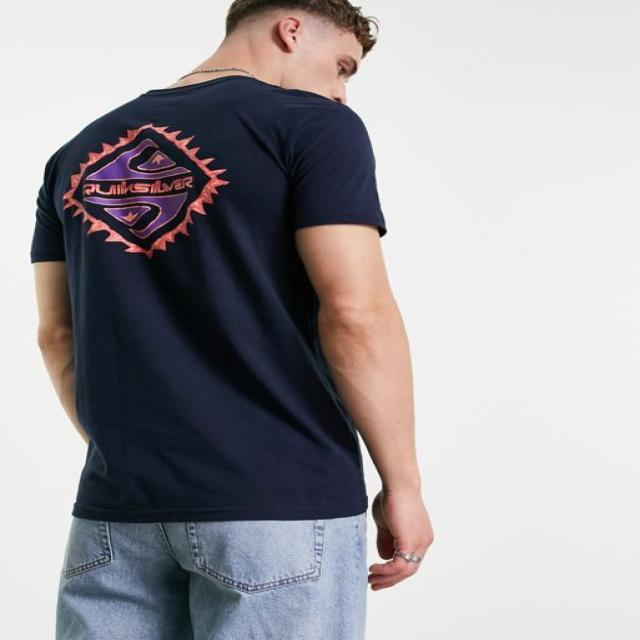tshirt: (30, 74, 388, 523)
